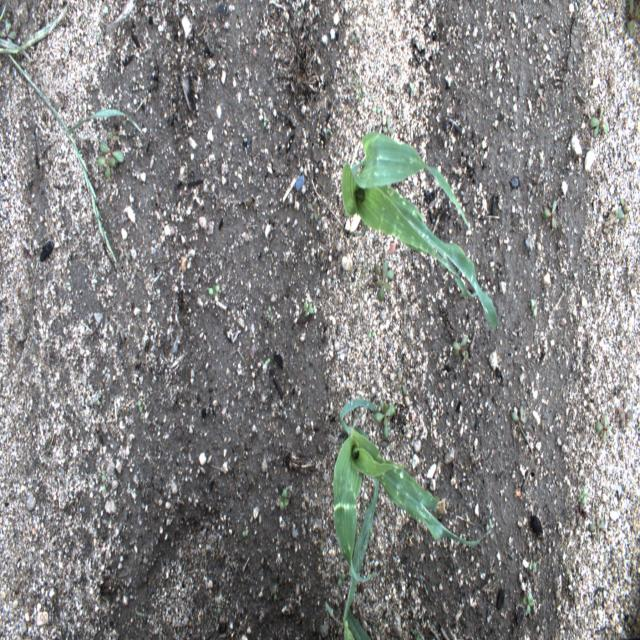crop: (342, 130, 499, 329), (333, 398, 491, 583), (326, 476, 380, 640)
weed: (0, 0, 147, 262), (96, 127, 123, 181), (372, 398, 397, 442), (375, 260, 395, 306), (589, 106, 608, 140), (594, 412, 612, 446), (0, 16, 18, 49), (626, 0, 640, 39), (540, 200, 556, 230), (452, 335, 469, 360), (510, 404, 527, 428), (588, 516, 604, 538), (521, 592, 535, 616), (384, 114, 394, 147), (396, 368, 407, 396), (117, 239, 131, 261), (617, 196, 630, 219), (278, 488, 290, 512), (536, 88, 547, 113), (54, 90, 65, 112), (576, 498, 584, 528), (302, 300, 314, 319), (307, 202, 319, 220), (600, 13, 609, 36), (208, 282, 220, 298), (530, 298, 538, 319), (611, 549, 621, 565), (360, 498, 366, 522), (100, 472, 106, 496), (272, 583, 278, 604), (576, 492, 588, 502), (136, 398, 144, 413), (338, 571, 345, 588), (216, 597, 222, 616), (240, 528, 250, 539), (413, 628, 421, 640), (377, 624, 384, 636), (367, 330, 376, 339), (138, 610, 146, 620), (528, 562, 536, 570), (369, 527, 373, 543), (267, 306, 271, 322), (488, 517, 493, 529), (266, 356, 271, 366), (264, 116, 266, 130)
